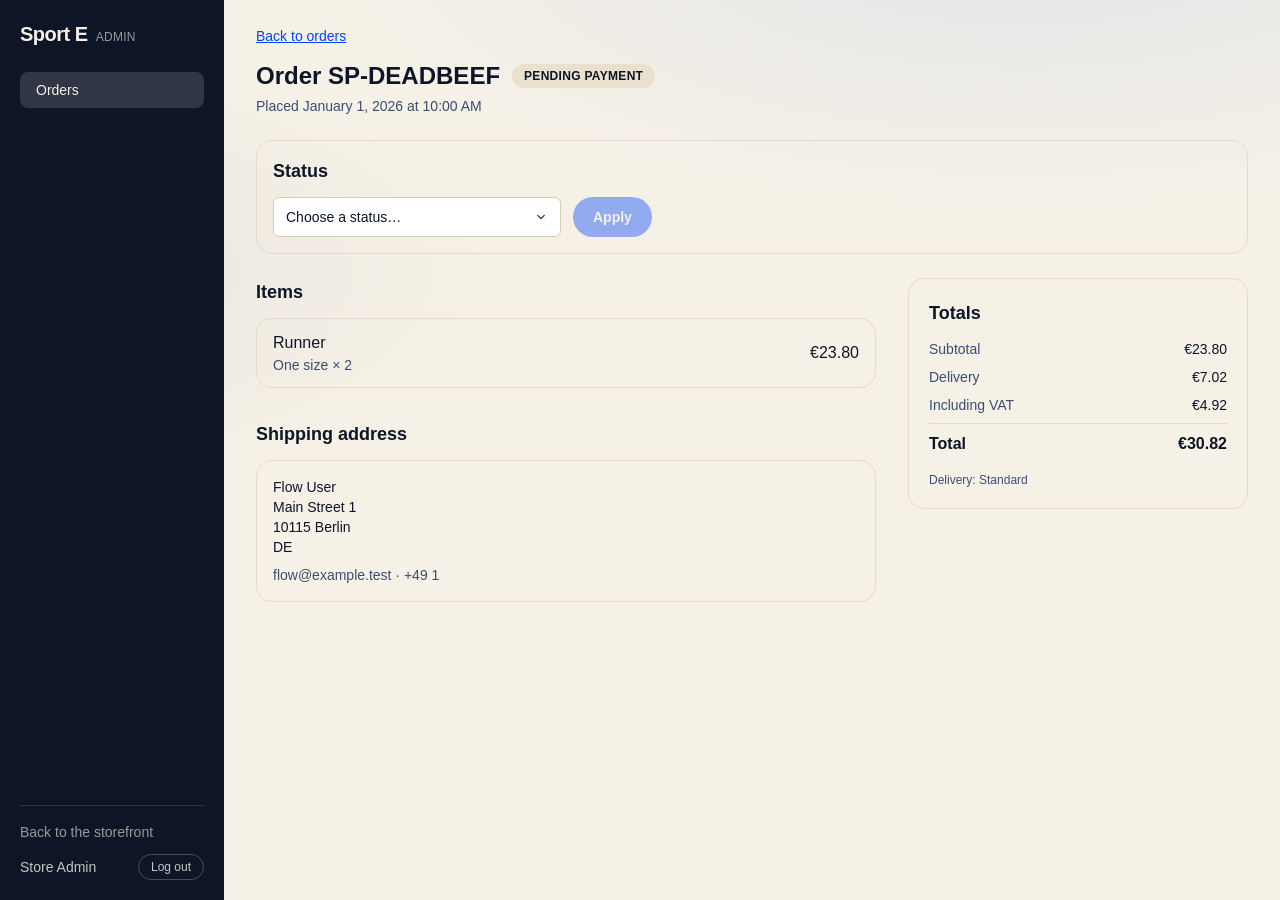
Test: admin order detail › surfaces an invalid transition field error
Select "Paid" in the dropdown named "Next status" at coordinates (417, 217), box top-left (273, 197), bottom-right (561, 237)
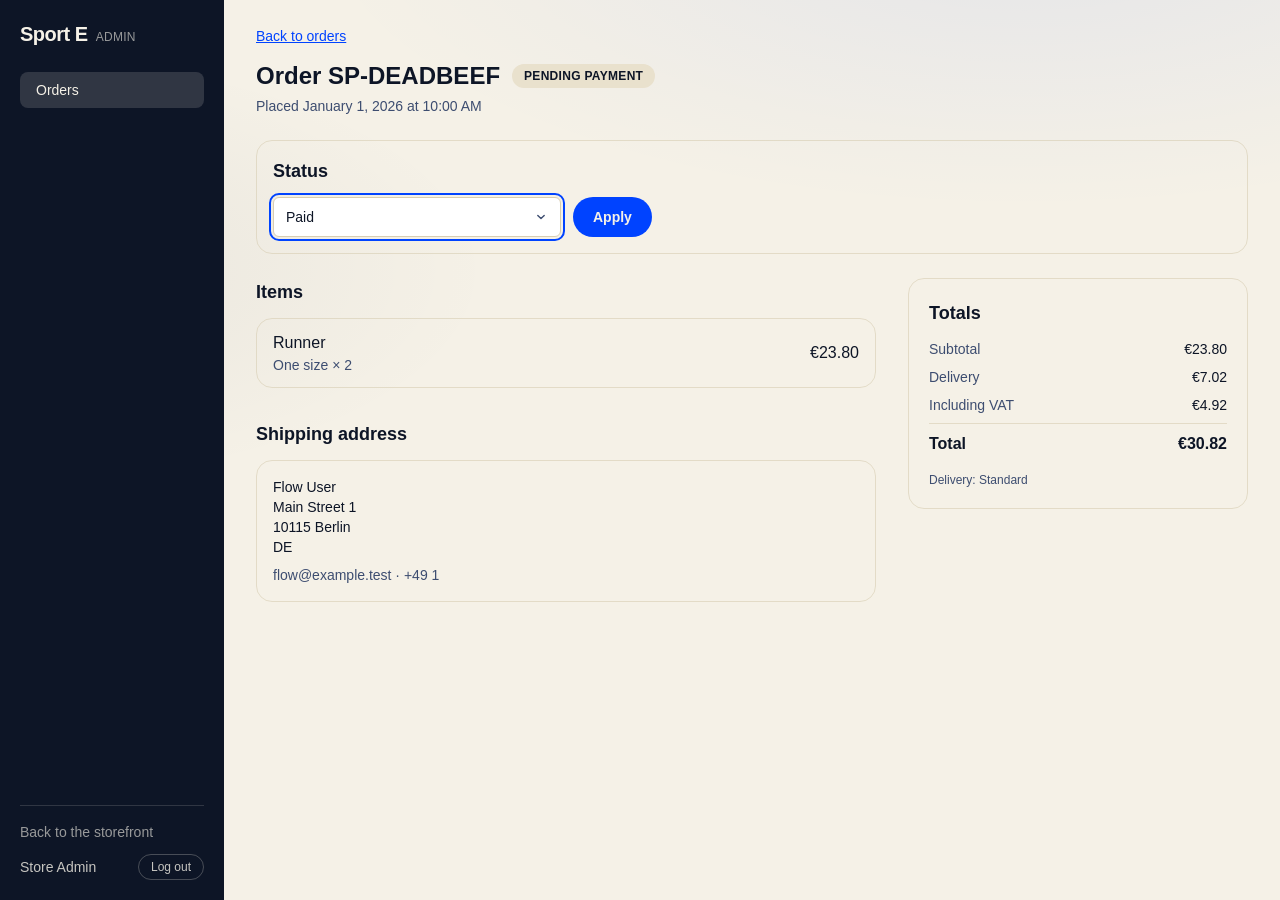
Click the button "Apply".
click(612, 217)  # box top-left (573, 197), bottom-right (652, 237)
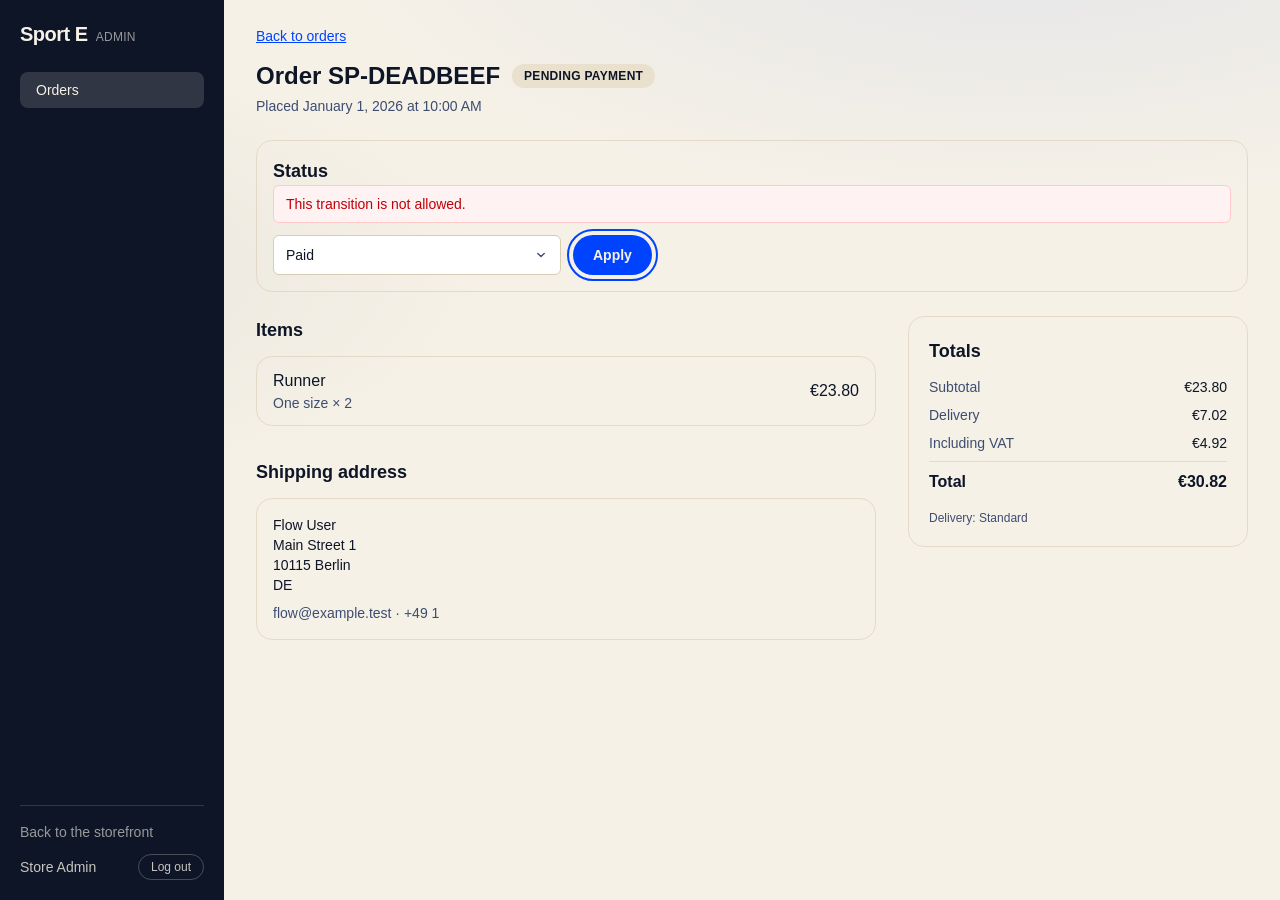
Check: the text "This transition is not allowed." is shown, box top-left (273, 185), bottom-right (1231, 223)
